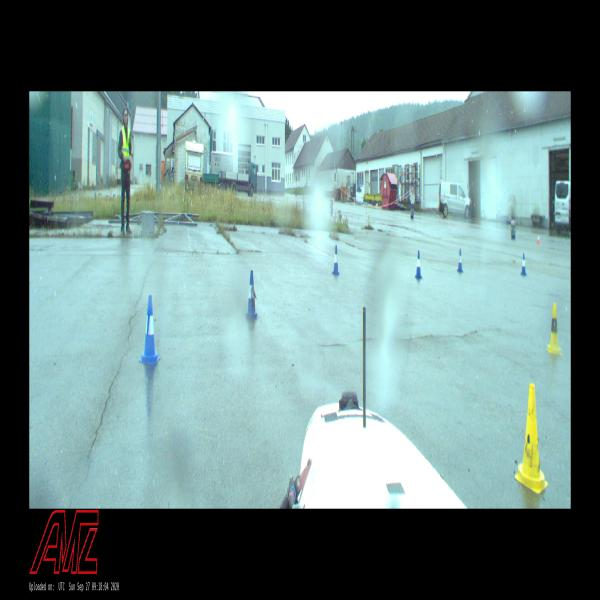blue_cone: (140, 296, 160, 365), (246, 271, 258, 320), (415, 250, 422, 278), (333, 245, 339, 275), (520, 253, 526, 275), (457, 249, 462, 271)
orange_cone: (537, 233, 540, 244)
yellow_cone: (515, 384, 548, 496), (546, 304, 560, 353)
